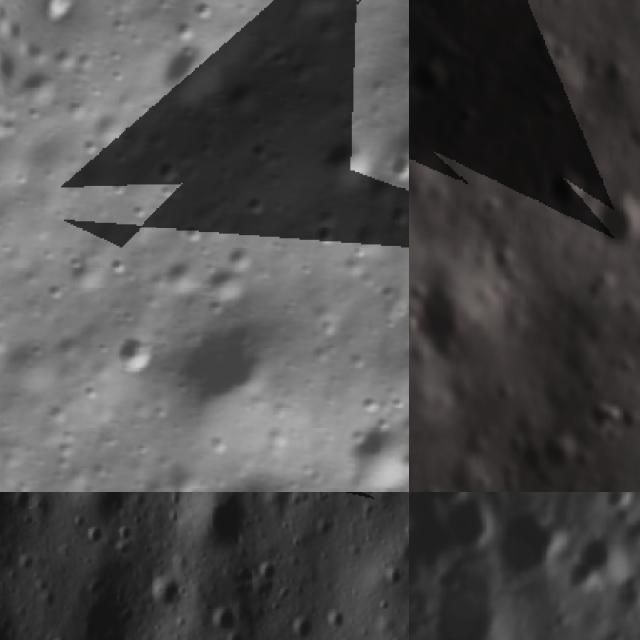crater: (159, 296, 294, 434), (148, 23, 251, 126), (422, 558, 511, 640), (484, 498, 572, 572), (305, 128, 385, 205), (333, 422, 409, 492), (560, 536, 632, 600), (192, 492, 255, 556), (103, 321, 164, 386), (439, 492, 505, 546), (212, 238, 262, 288), (16, 66, 63, 118), (590, 200, 634, 247), (577, 400, 629, 439), (146, 158, 187, 197), (35, 275, 73, 314), (409, 58, 445, 95), (170, 221, 204, 254), (591, 492, 636, 516), (309, 220, 341, 253), (381, 202, 409, 239), (125, 200, 154, 230), (240, 194, 268, 222), (79, 137, 106, 166), (342, 492, 397, 503), (455, 102, 474, 131)
